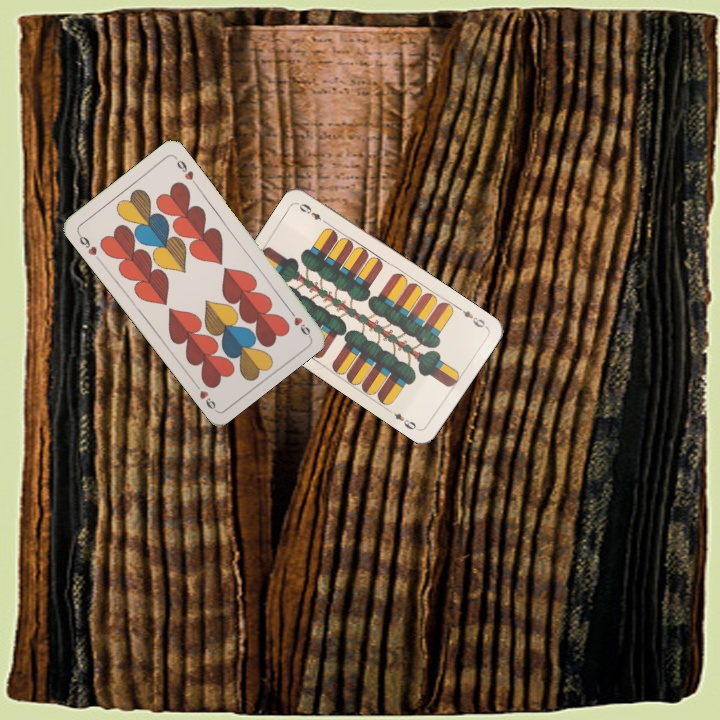E9: (453, 303, 490, 330)
H9: (74, 228, 103, 263), (284, 304, 313, 339)
